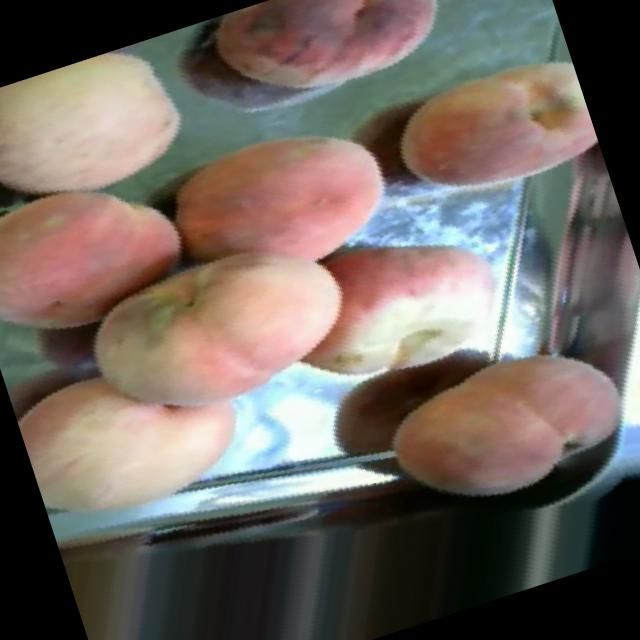Fruit: (38, 174, 388, 465), (343, 284, 640, 559), (126, 81, 418, 321), (245, 185, 538, 412), (4, 314, 270, 557), (354, 17, 612, 251), (0, 146, 240, 381), (0, 29, 232, 269), (181, 0, 477, 154)
